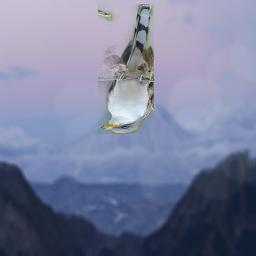Cuckoo: (98, 4, 154, 134)
